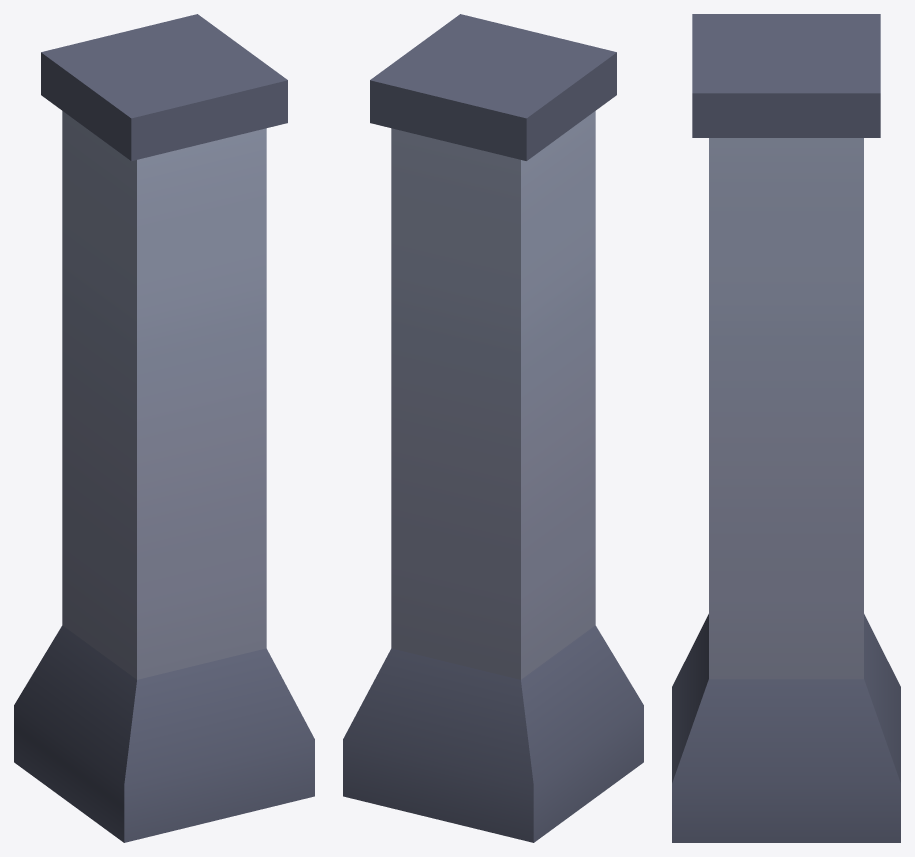
File: road_bridge_pillar_wide.glb
The picture shows the model from 3 angles, left to right: view 1: azimuth 30°, elevation 25°; view 2: azimuth 150°, elevation 25°; view 3: azimuth 270°, elevation 25°; orthographic projection. The views are drawn at different scales.
Visible parts, largest first — view 1: bridge-pillar-wide; view 2: bridge-pillar-wide; view 3: bridge-pillar-wide.
Boxes of the visible parts, bbox=[...] form: bridge-pillar-wide: bbox=[14, 14, 314, 842]; bridge-pillar-wide: bbox=[343, 14, 643, 842]; bridge-pillar-wide: bbox=[672, 14, 900, 842].
Bounding box in the file's own units: 0.14 × 0.5 × 0.14.
1 material, 1 textured.
